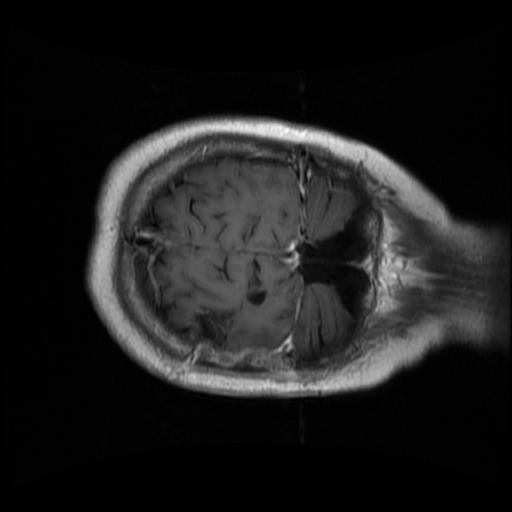glioma: (186, 304, 238, 349)
